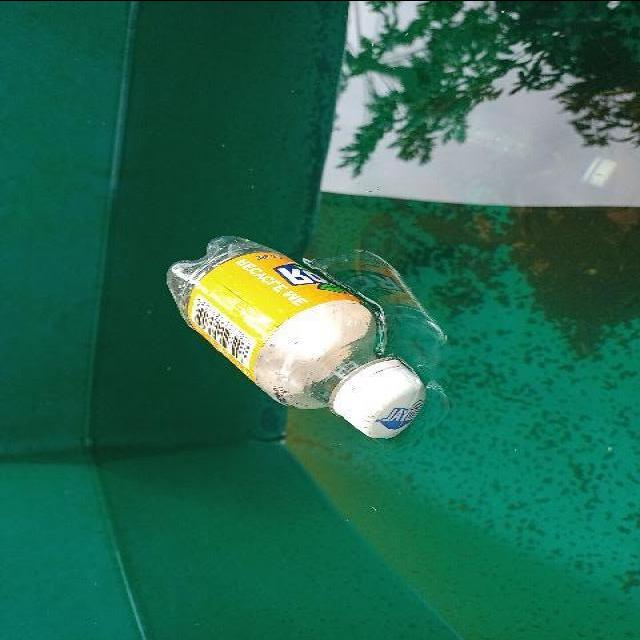Bottle: (160, 220, 436, 449)
